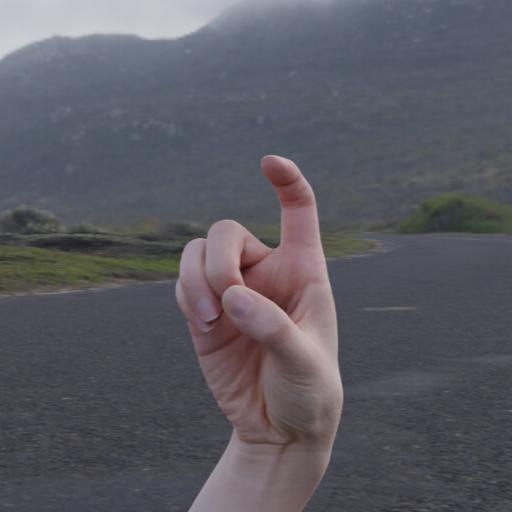X: (171, 144, 347, 458)
